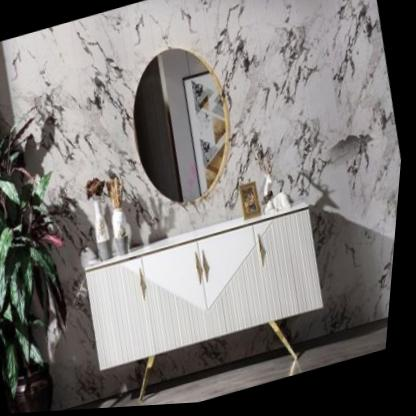Sideboard: (89, 207, 331, 406)
